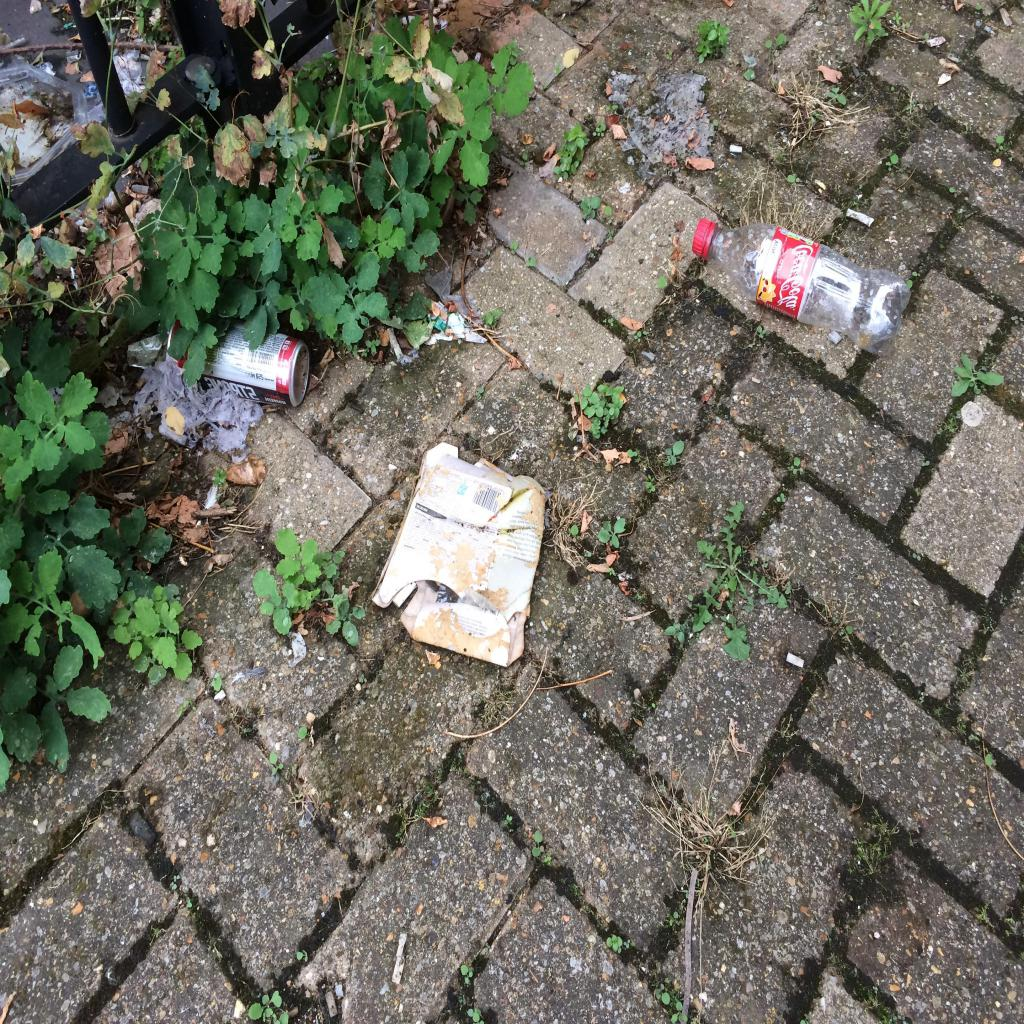Cigarette: (847, 208, 875, 226), (786, 652, 804, 666), (926, 35, 946, 47), (730, 144, 742, 152)
Clear plastic bottle: (692, 218, 911, 356)
Disposable food container: (0, 63, 88, 187)
Drink can: (166, 318, 310, 406)
Meal carton: (369, 442, 546, 668)
Normal paper: (133, 354, 263, 464)
Plastic bottle cap: (692, 218, 712, 258)
Unlabeled litter: (112, 48, 144, 96), (127, 334, 168, 368)
